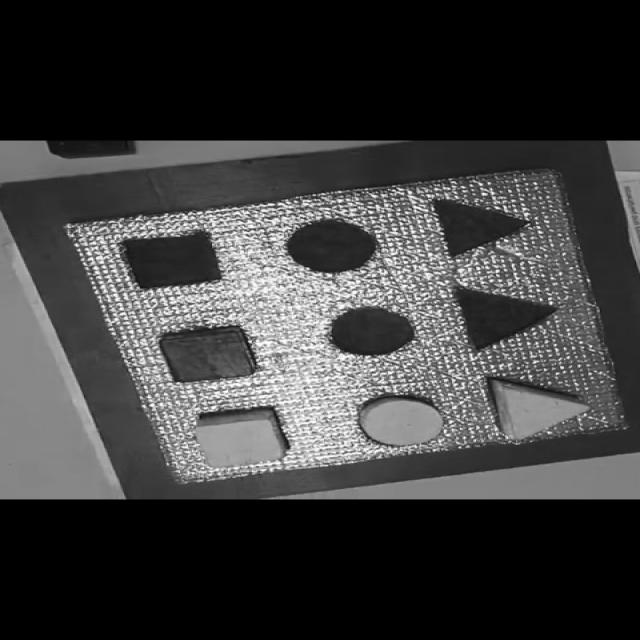mtcircle: (286, 219, 379, 273), (327, 306, 417, 356)
mtcube: (117, 232, 224, 290)
mttriangle: (452, 285, 558, 351), (432, 198, 532, 258)
rcube: (157, 326, 258, 383)
wb: (69, 170, 631, 486)
ycircle: (357, 395, 446, 447)
ycube: (192, 408, 289, 468)
ytriangle: (488, 377, 590, 440)
